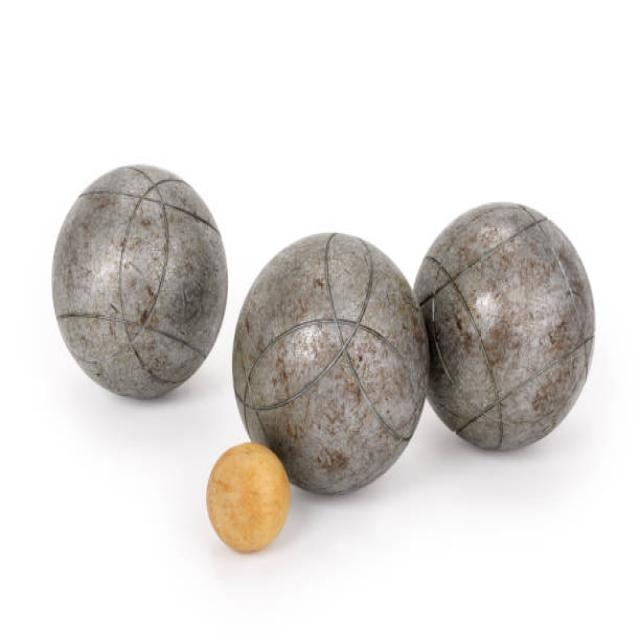hatball: (196, 438, 298, 563)
petanque: (235, 233, 426, 503), (410, 194, 601, 458), (41, 154, 232, 416)
